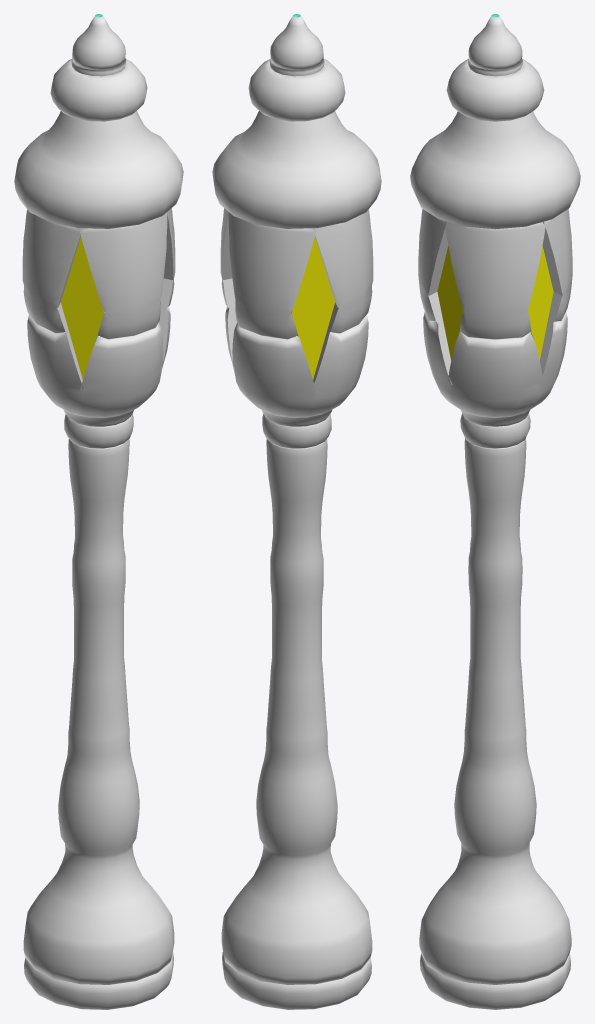
File: street lamp.fbx
The picture shows the model from 3 angles, left to right: view 1: azimuth 30°, elevation 25°; view 2: azimuth 150°, elevation 25°; view 3: azimuth 270°, elevation 25°; orthographic projection.
Parts seen in each view (by area): view 1: Cylinder.001; view 2: Cylinder.001; view 3: Cylinder.001.
Part boxes in pixels (left/top/right/bottom): Cylinder.001: left=14, top=14, right=183, bottom=1009; Cylinder.001: left=212, top=14, right=381, bottom=1009; Cylinder.001: left=410, top=14, right=580, bottom=1009.
Size of the model in its own units: 103 by 643 by 103.
